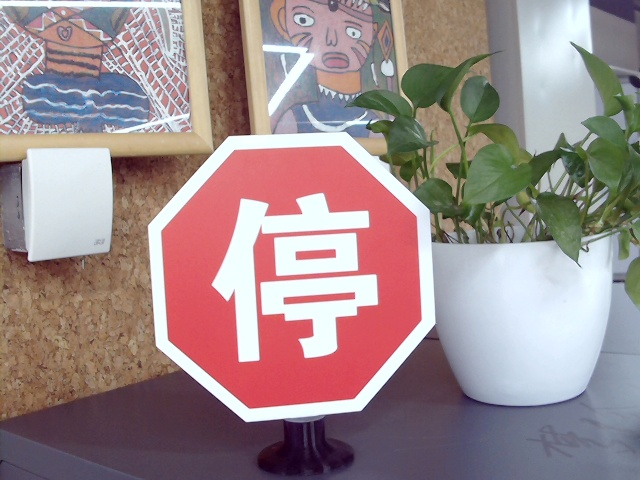stop: (206, 190, 379, 361)
